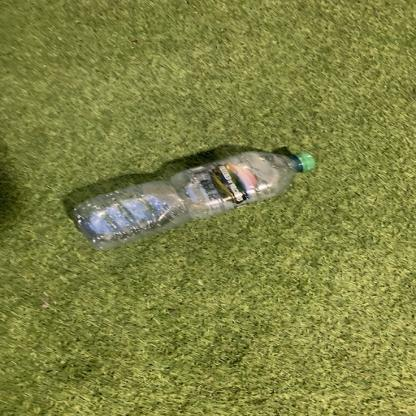trash: (68, 149, 318, 250)
